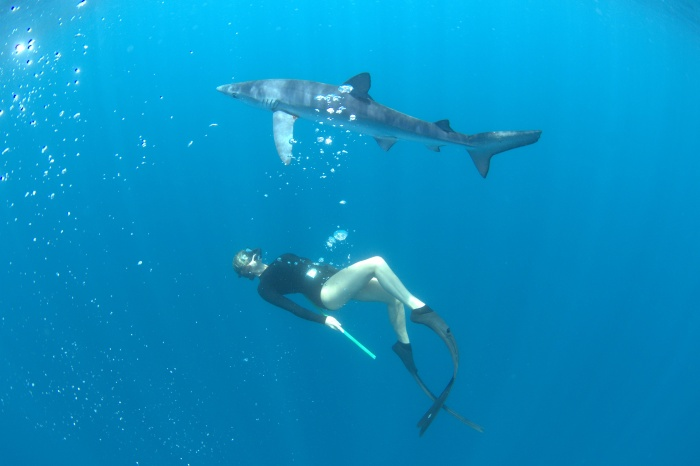Azul: (213, 58, 569, 188)
